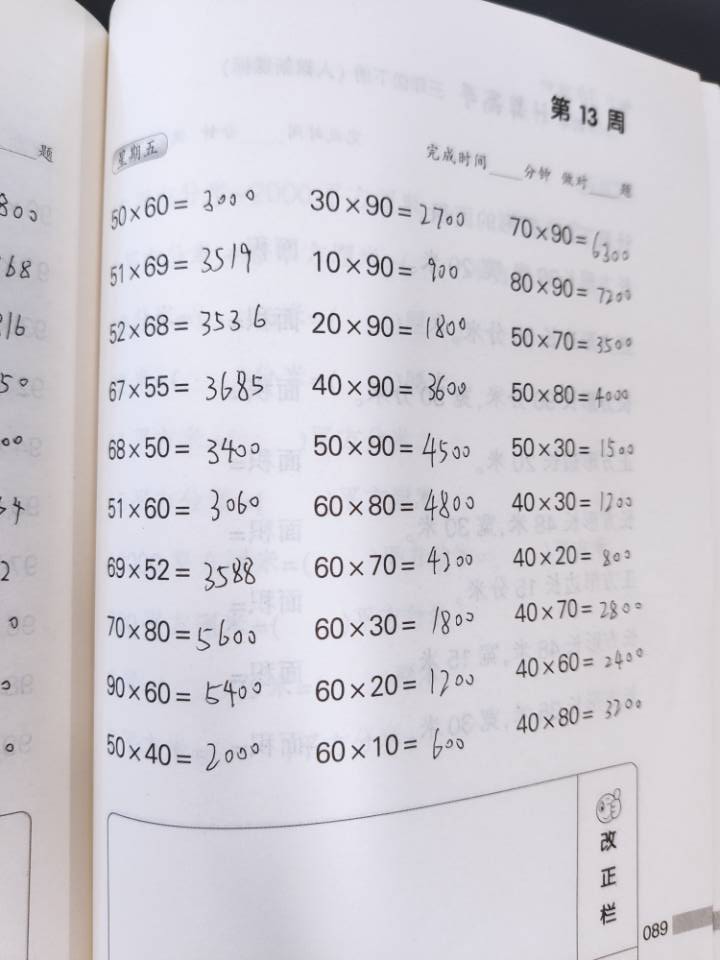equation: (127, 600, 182, 825), (494, 313, 541, 559), (171, 611, 223, 825), (538, 600, 586, 829), (517, 89, 570, 291), (316, 317, 360, 560), (137, 313, 178, 567), (445, 315, 487, 560), (404, 312, 446, 556), (272, 317, 314, 559), (220, 583, 262, 823), (362, 311, 402, 561), (229, 313, 269, 563), (540, 324, 584, 551), (182, 319, 224, 553), (403, 608, 446, 827), (357, 600, 398, 825), (272, 589, 310, 828), (498, 604, 537, 829), (318, 599, 356, 825), (160, 83, 199, 299), (236, 93, 275, 303), (320, 80, 359, 284), (454, 609, 490, 829), (200, 79, 236, 297), (275, 97, 315, 293), (439, 85, 476, 288), (480, 88, 517, 288), (404, 101, 439, 287), (365, 101, 398, 295)
